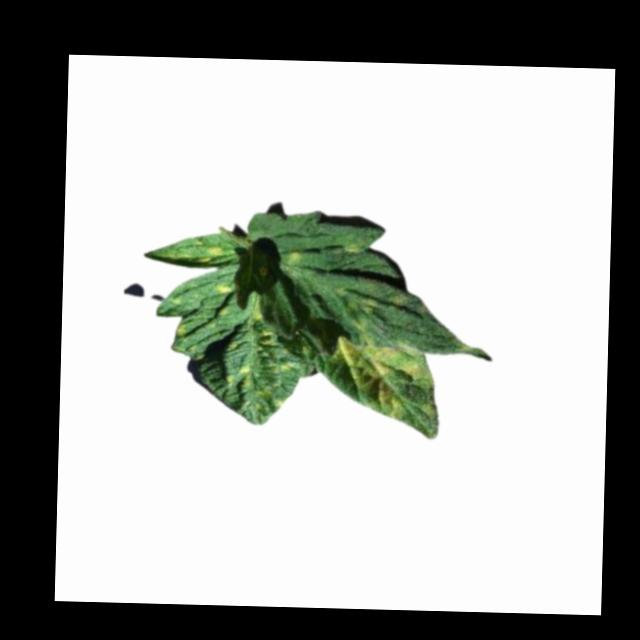Leaf_Mold: (331, 334, 435, 421), (219, 307, 295, 413), (332, 288, 408, 335), (194, 240, 223, 267), (289, 249, 301, 272), (212, 283, 230, 296)
